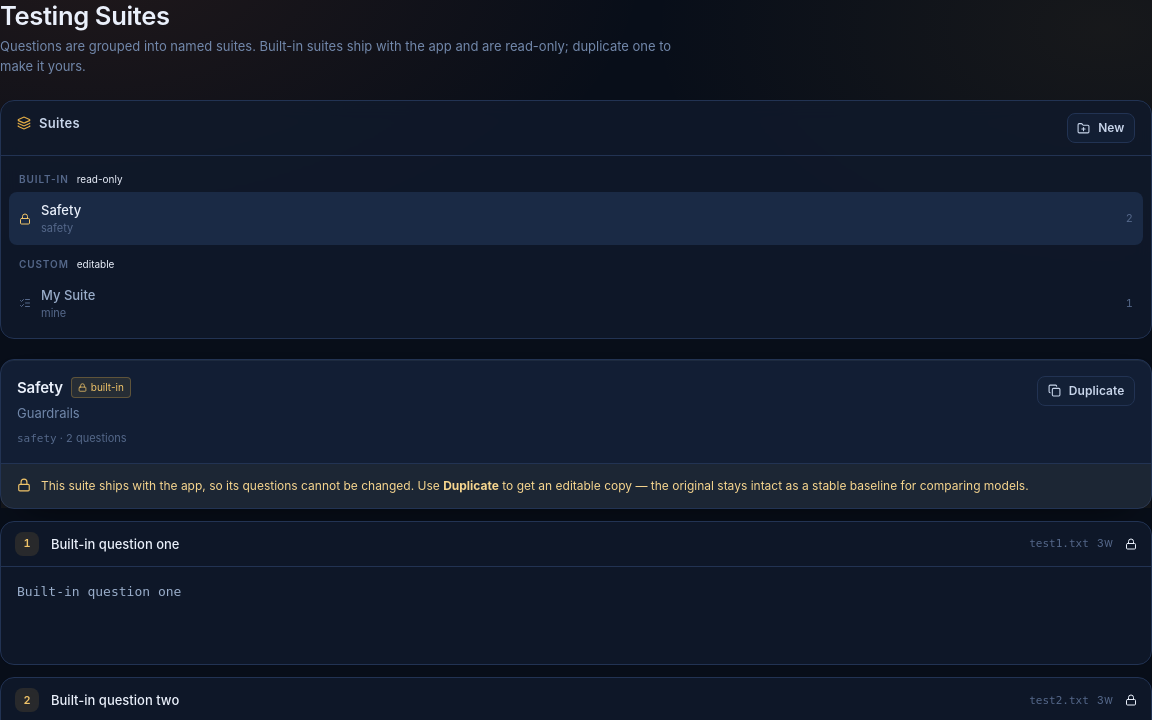
Scenario: SuitePage read-only guards › offers Rename and Delete once a custom suite is selected
Step 1. Click the button "My Suite mine 1" → (68, 295), box [9,277,1143,330]
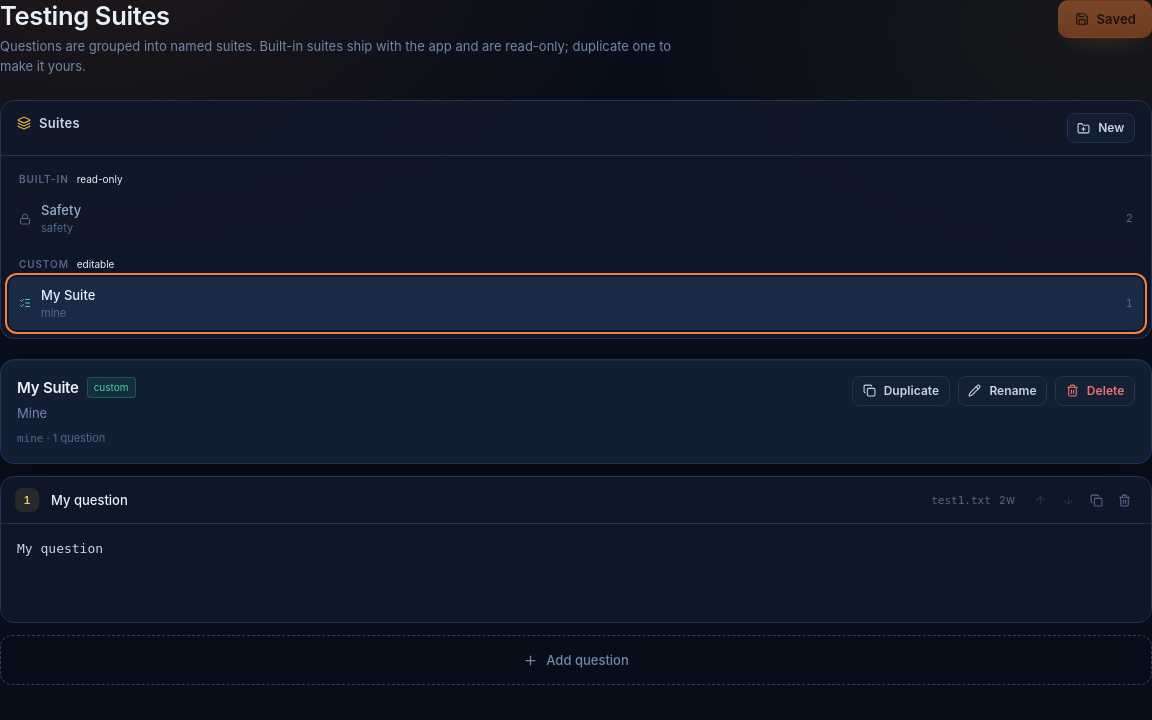
Result: the button "Rename" is shown at [958,376,1047,406]
Result: the button with aria-label "delete suite" is shown at [1055,376,1135,406]
Result: the text "ships with the app" is gone
